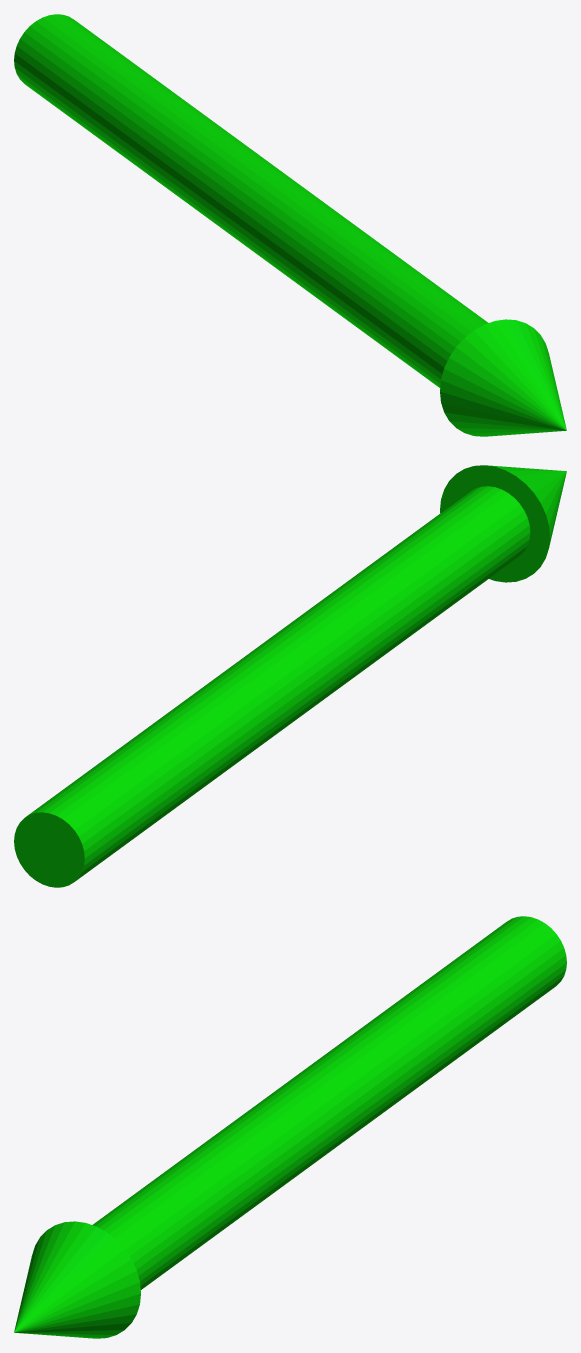
Rendered from AxisArrowY.obj.
3 renders of one model, top to bottom at view 1: azimuth 30°, elevation 25°; view 2: azimuth 150°, elevation 25°; view 3: azimuth 330°, elevation 25°, orthographic.
Visible parts, largest first — view 1: z.001; view 2: z.001; view 3: z.001.
Boxes of the visible parts, box(x1,y1,x2,y2) form: z.001: box(14, 14, 566, 436); z.001: box(14, 465, 566, 887); z.001: box(14, 916, 566, 1338).
Bounding box in the file's own units: 0.2361 × 0.234 × 1.92.
